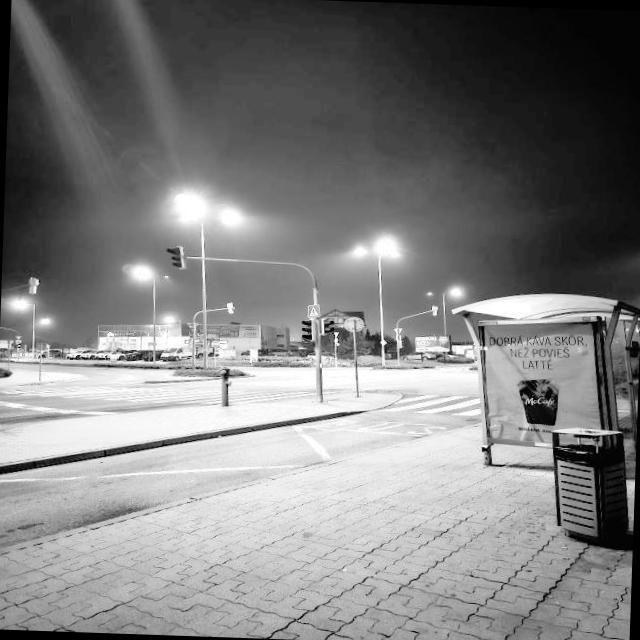Light: (168, 192, 238, 371), (352, 240, 398, 366), (6, 297, 54, 358), (436, 282, 471, 351)
